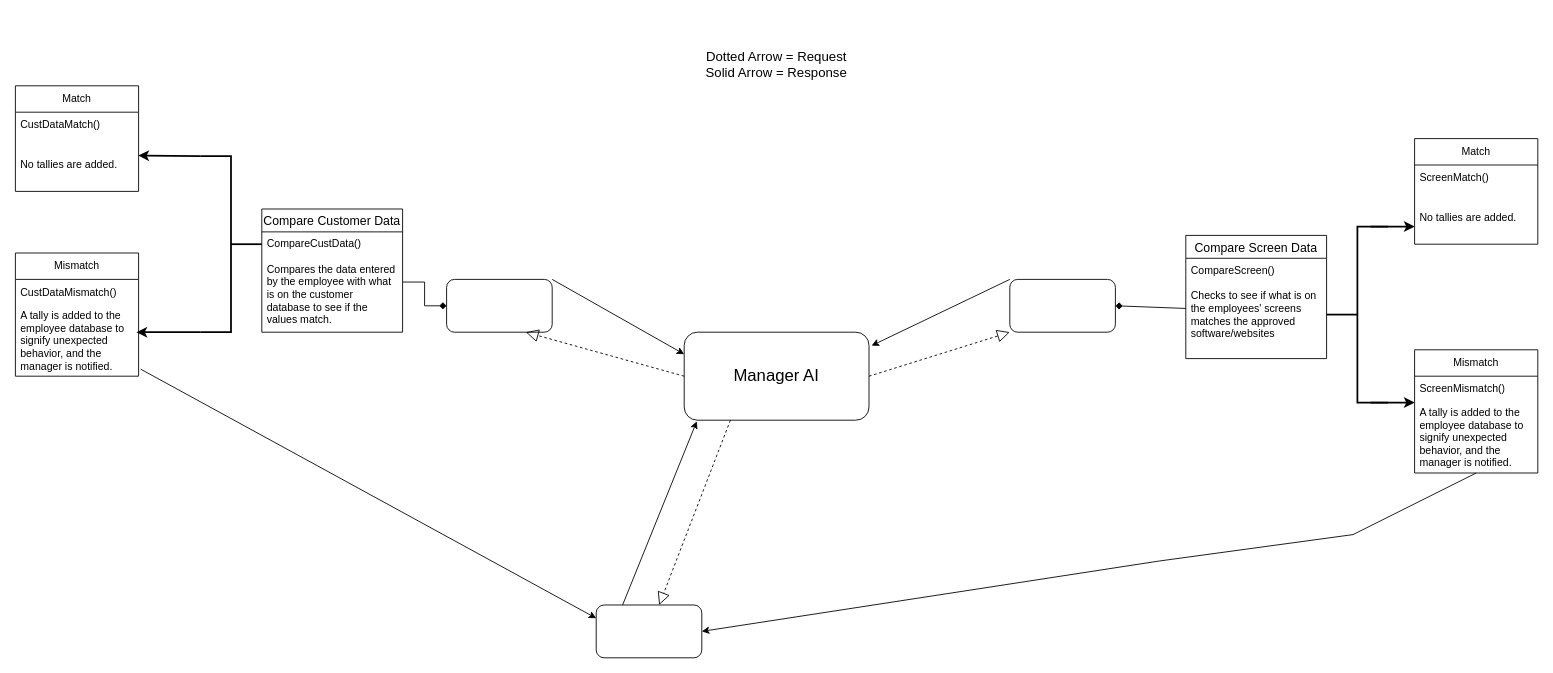
The diagram is 1553 pixels wide and 673 high, and some of its shapes have lost their labels. The centre of each missing label's shape, as x and y in pixels:
Customer Database: [499,305]
Employee Database: [648,631]
Employee Screen Mirror: [1062,305]
